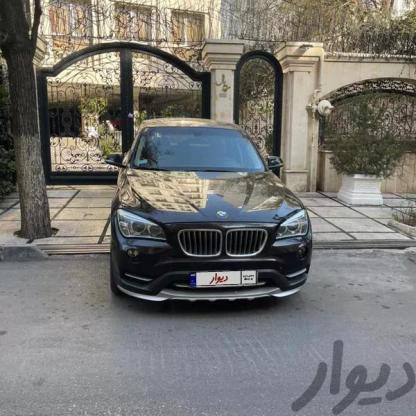Car: (106, 112, 308, 308)
